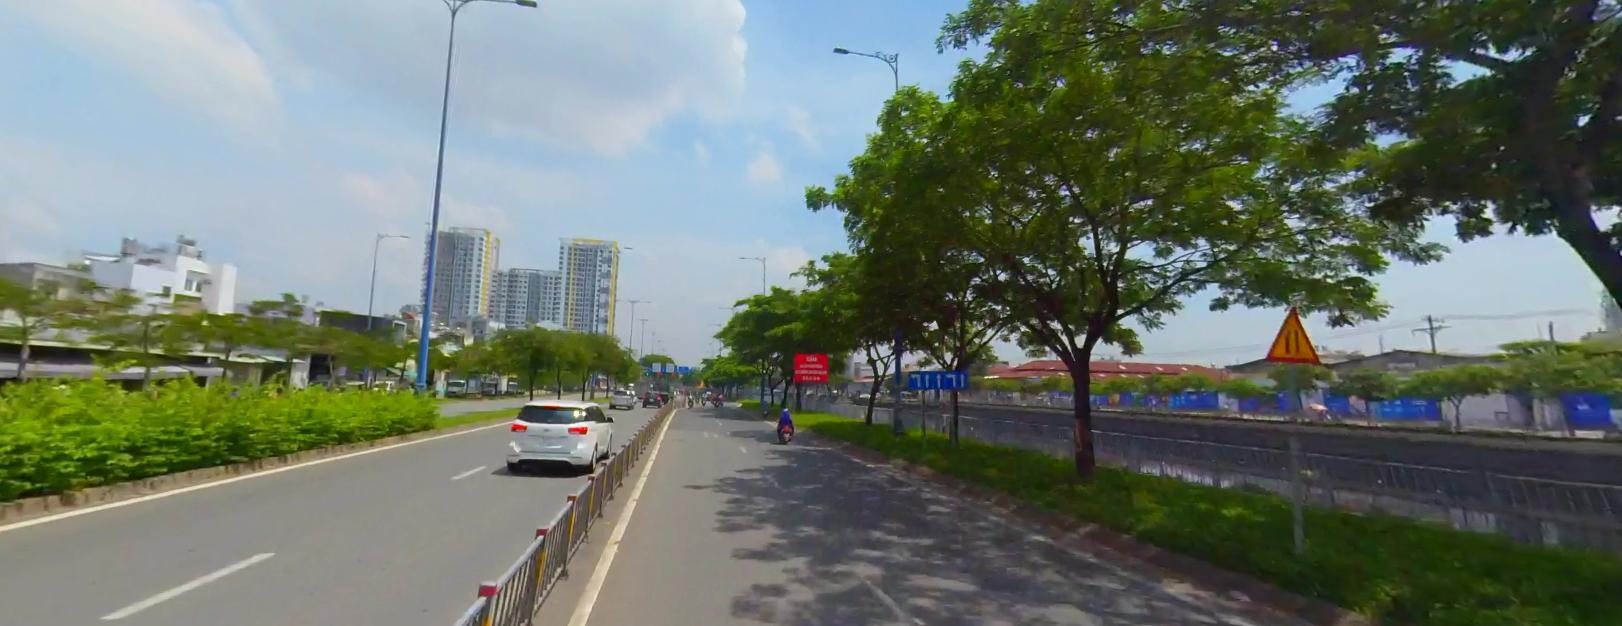Nguy hiem: (1261, 299, 1323, 364)
